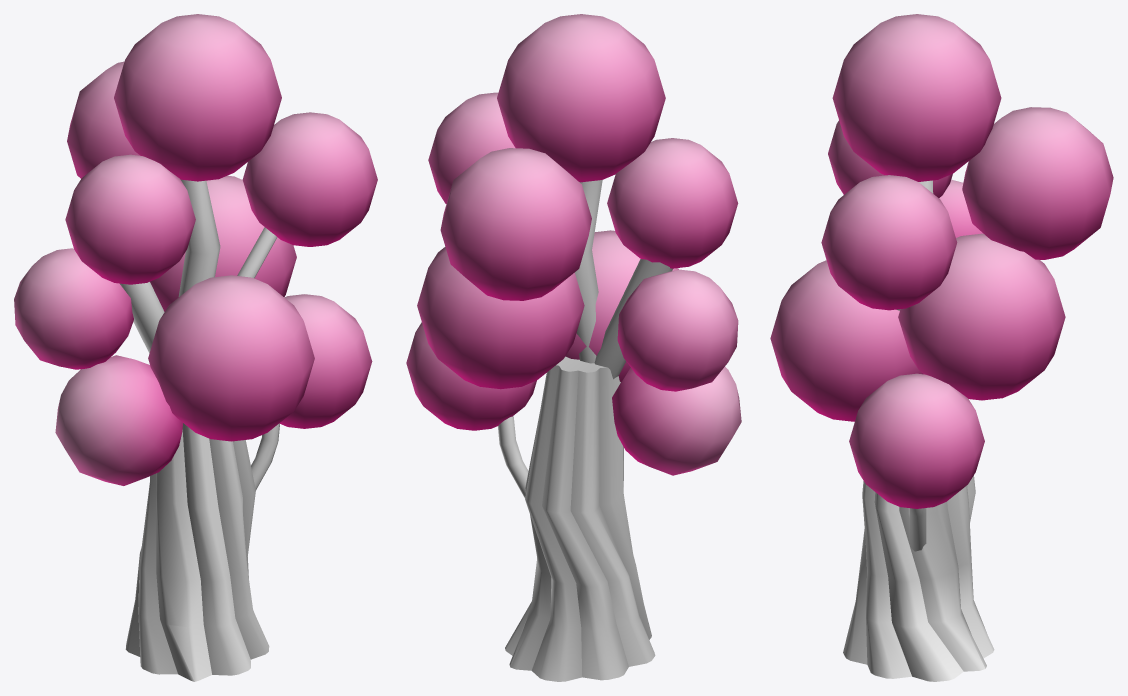
File: Candy_Tree_01.fbx
3 renders of one model, left to right at view 1: azimuth 30°, elevation 25°; view 2: azimuth 150°, elevation 25°; view 3: azimuth 270°, elevation 25°, orthographic.
Visible parts, largest first — view 1: Candy_Tree_01; view 2: Candy_Tree_01; view 3: Candy_Tree_01.
Part boxes in pixels (x1=…): Candy_Tree_01: x1=14, y1=14, x2=377, y2=681; Candy_Tree_01: x1=406, y1=14, x2=741, y2=681; Candy_Tree_01: x1=770, y1=14, x2=1113, y2=681.
Bounding box in the file's own units: 361 × 660 × 326.
